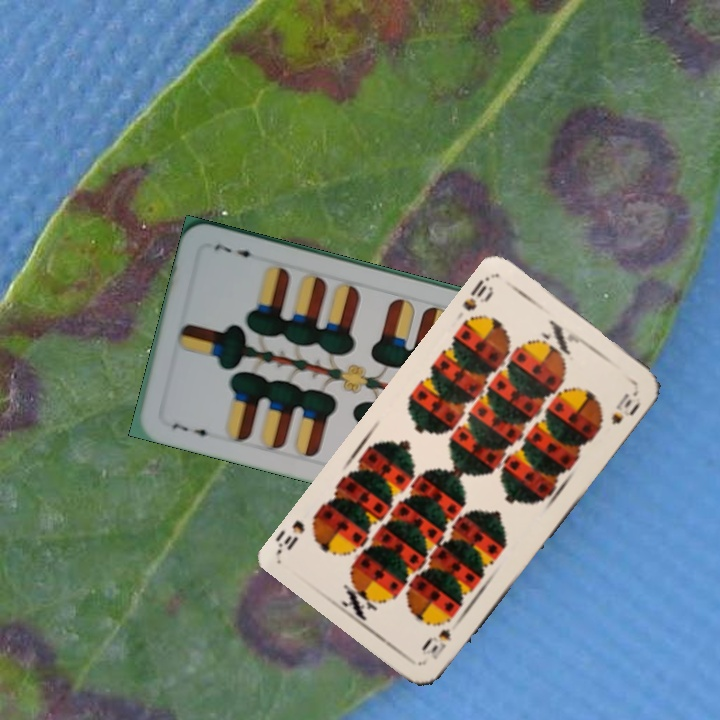E7: (168, 418, 216, 441)
S10: (458, 272, 497, 314), (426, 624, 455, 663)
